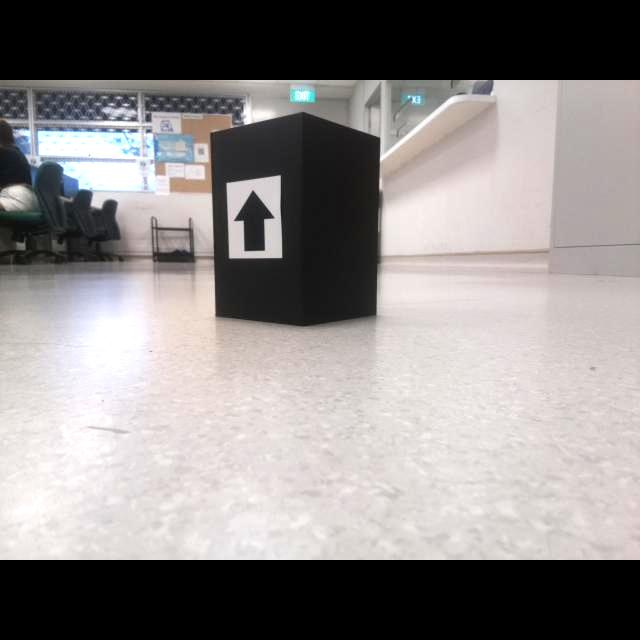UP: (231, 188, 278, 253)
